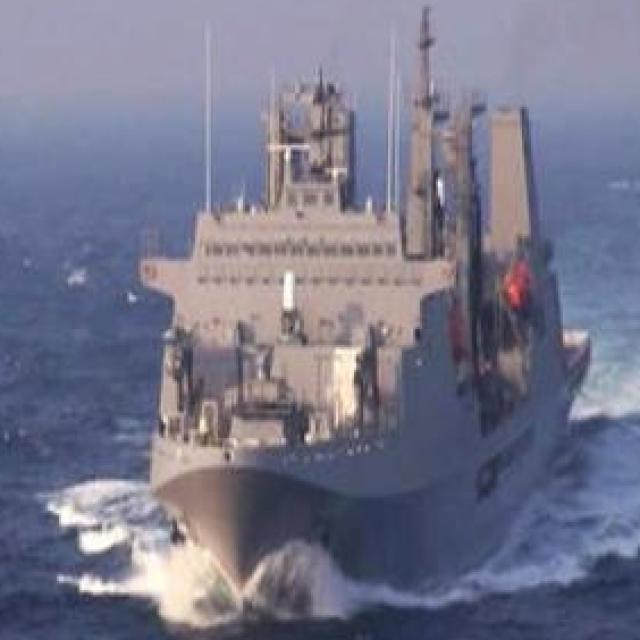navalvessels: (128, 12, 590, 610)
